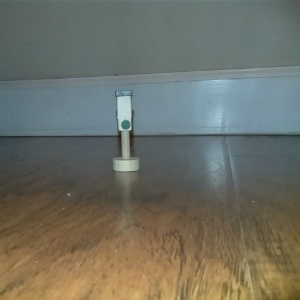traffic light green: (111, 87, 141, 175)
